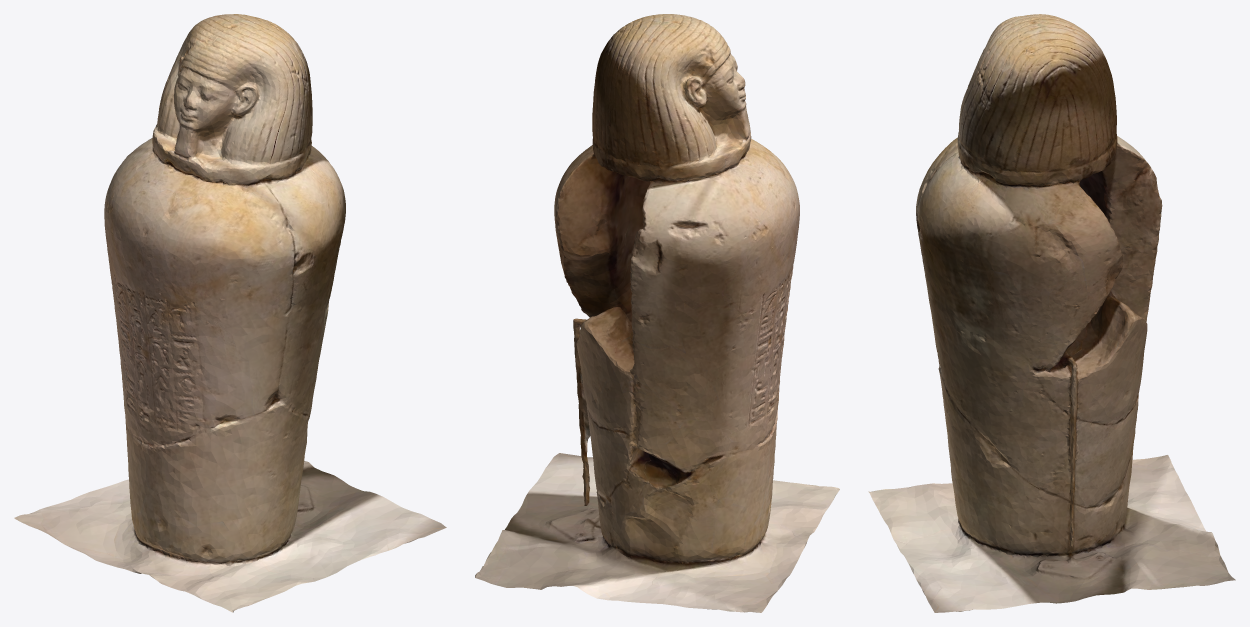
Rendered from userhat-canopic-jar.glb.
3 renders of one model, left to right at view 1: azimuth 30°, elevation 25°; view 2: azimuth 150°, elevation 25°; view 3: azimuth 270°, elevation 25°, orthographic.
Size of the model in its own units: 0.2924 by 0.4535 by 0.2917.
Materials: 1 (1 with a texture image).
